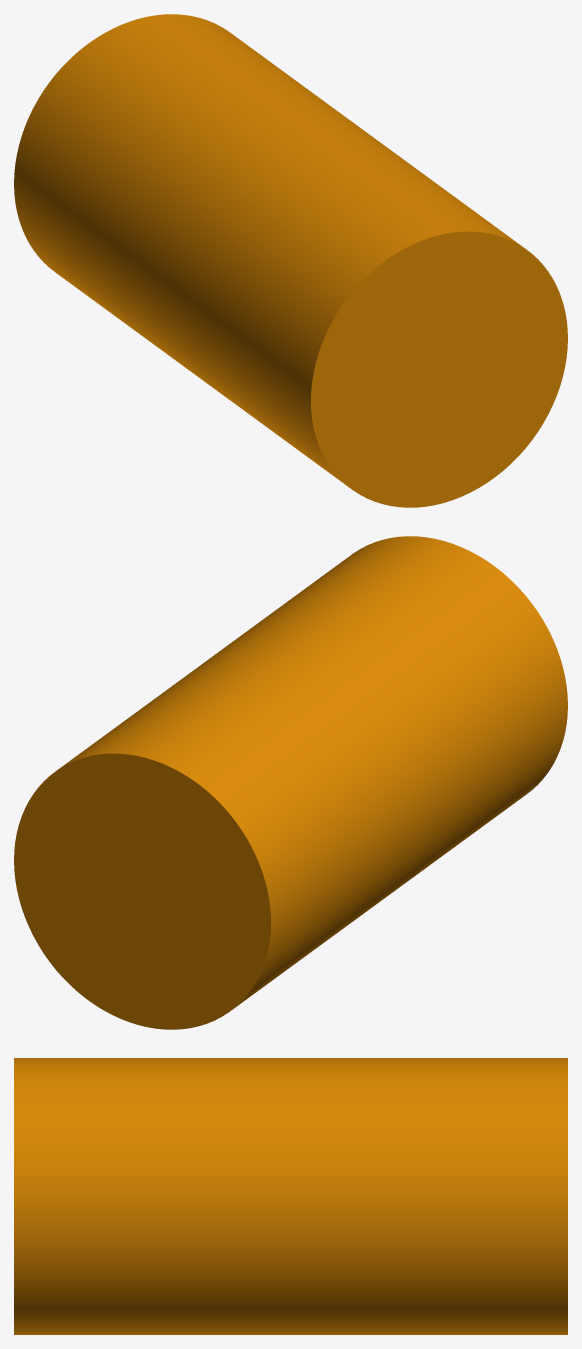
3 views of the same model, one above another, from view 1: azimuth 30°, elevation 25°; view 2: azimuth 150°, elevation 25°; view 3: azimuth 270°, elevation 25° (orthographic). The views are drawn at different scales.
Visible parts, largest first — view 1: ____01; view 2: ____01; view 3: ____01.
Part boxes in pixels (x1=…): ____01: x1=14, y1=14, x2=567, y2=507; ____01: x1=14, y1=536, x2=567, y2=1029; ____01: x1=14, y1=1058, x2=567, y2=1334.
Size of the model in its own units: 0.02 by 0.02 by 0.04.
